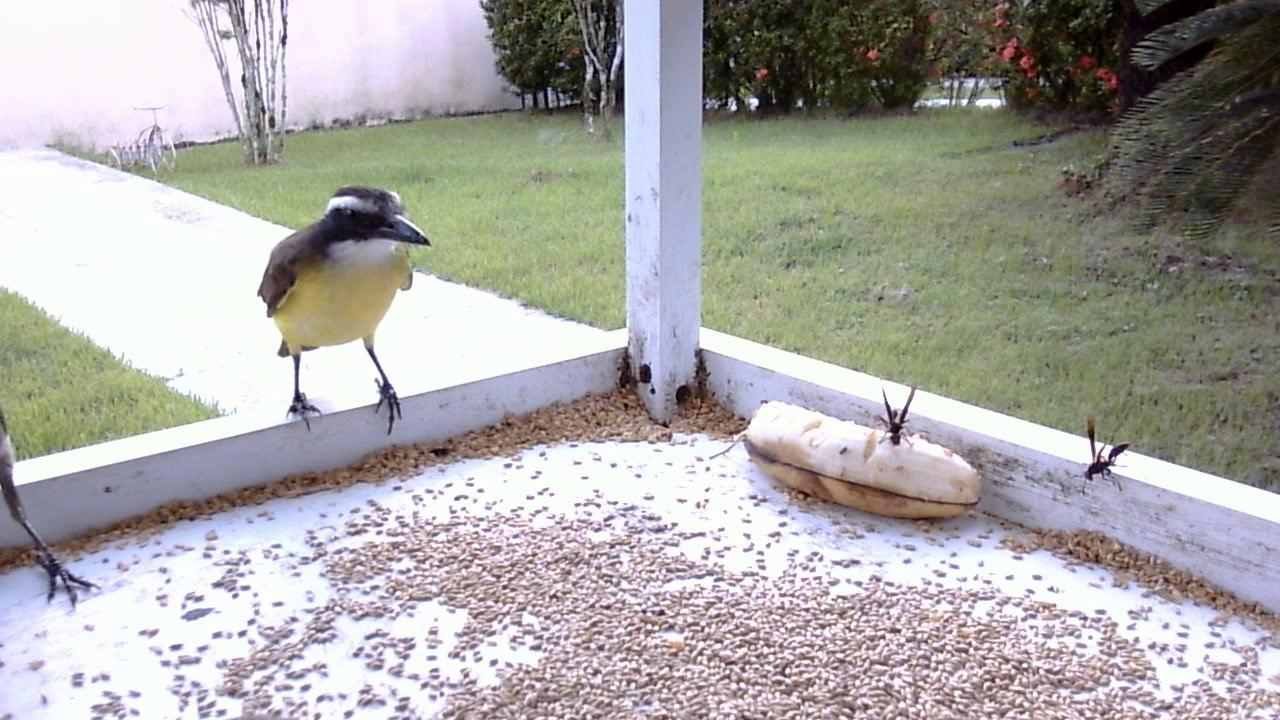bem_te_vi: (245, 170, 439, 447)
